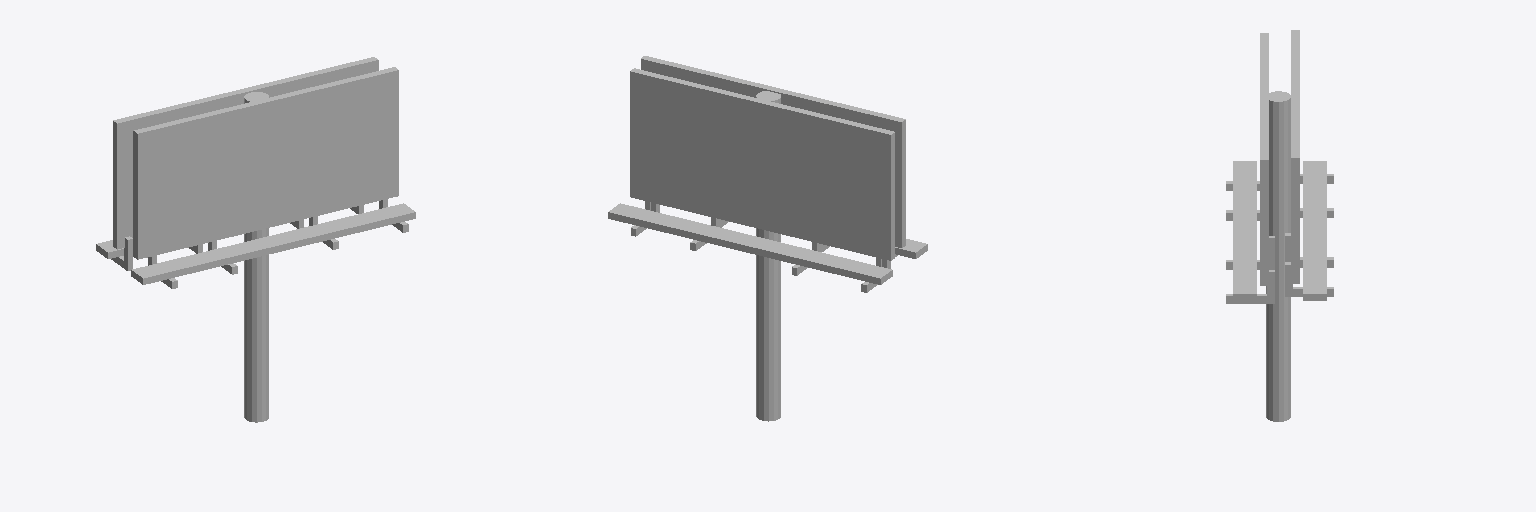
Rendered from Billboard 001.obj.
3 views of the same model, side by side, from view 1: azimuth 30°, elevation 25°; view 2: azimuth 150°, elevation 25°; view 3: azimuth 270°, elevation 25° (orthographic).
Visible parts, largest first — view 1: pCylinder2; view 2: pCylinder2; view 3: pCylinder2.
Part boxes in pixels (bbox=[...]): pCylinder2: bbox=[96, 57, 415, 422]; pCylinder2: bbox=[608, 56, 927, 421]; pCylinder2: bbox=[1226, 30, 1333, 421].
Bounding box in the file's own units: 3.63 × 4.09 × 1.24.